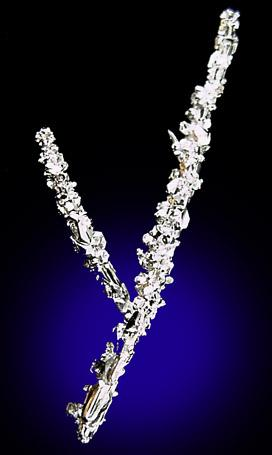silver: (0, 0, 272, 455), (36, 9, 238, 444)
